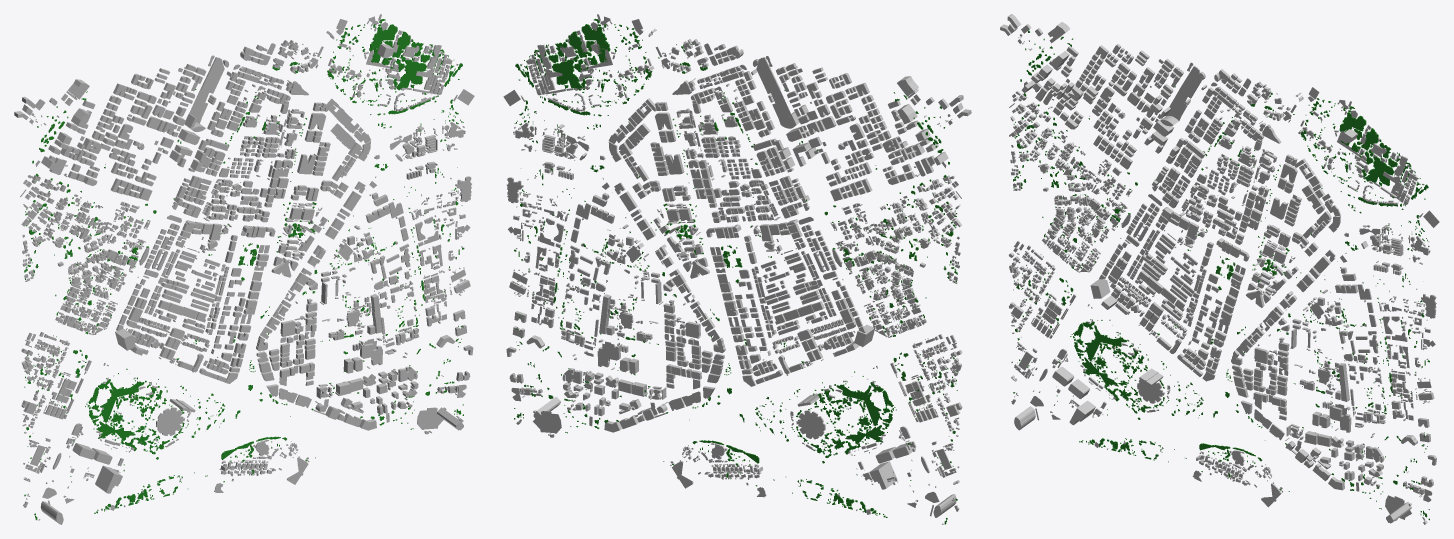
File: al_karama.obj
3 renders of one model, left to right at view 1: azimuth 30°, elevation 25°; view 2: azimuth 150°, elevation 25°; view 3: azimuth 330°, elevation 25°, orthographic. The views are drawn at different scales.
Parts seen in each view (by area): view 1: بوابة_النجوم, +1231095-561835; view 2: بوابة_النجوم, +1231540-562178; view 3: no part large enough to name.
Part boxes in pixels (x1,y1,x2,y2): بوابة_النجوم: [156, 407, 184, 435]; +1231095-561835: [99, 381, 144, 422]; بوابة_النجوم: [796, 410, 825, 439]; +1231540-562178: [552, 59, 582, 90].
Size of the model in its own units: 3164 by 3012 by 230.
